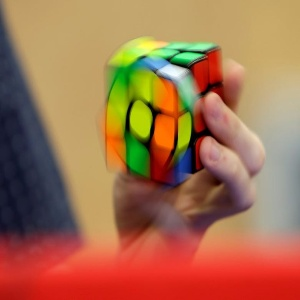cube: (104, 37, 222, 184)
